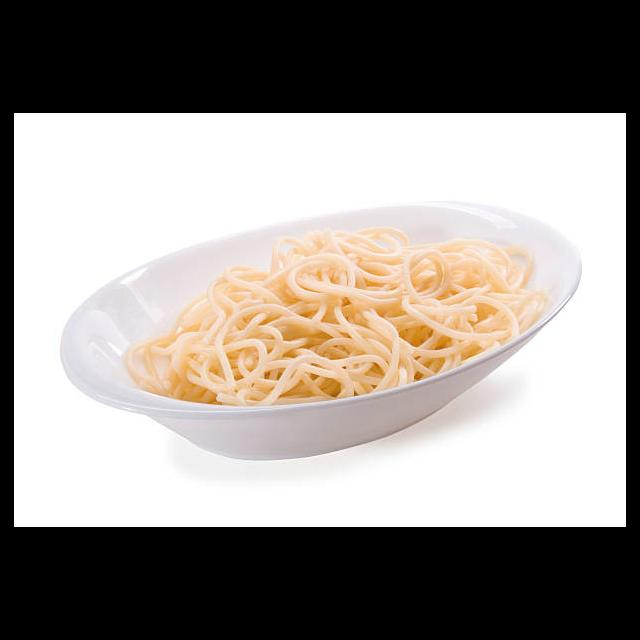noodles: (123, 227, 546, 408)
